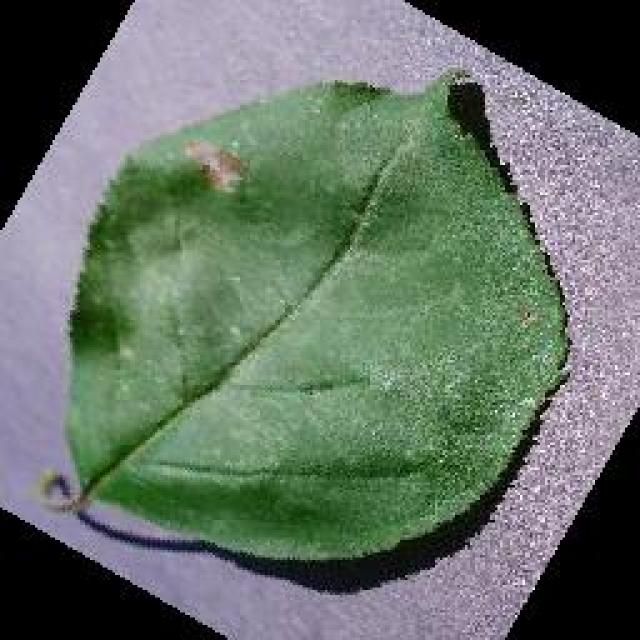apple healthy: (55, 65, 575, 573)
